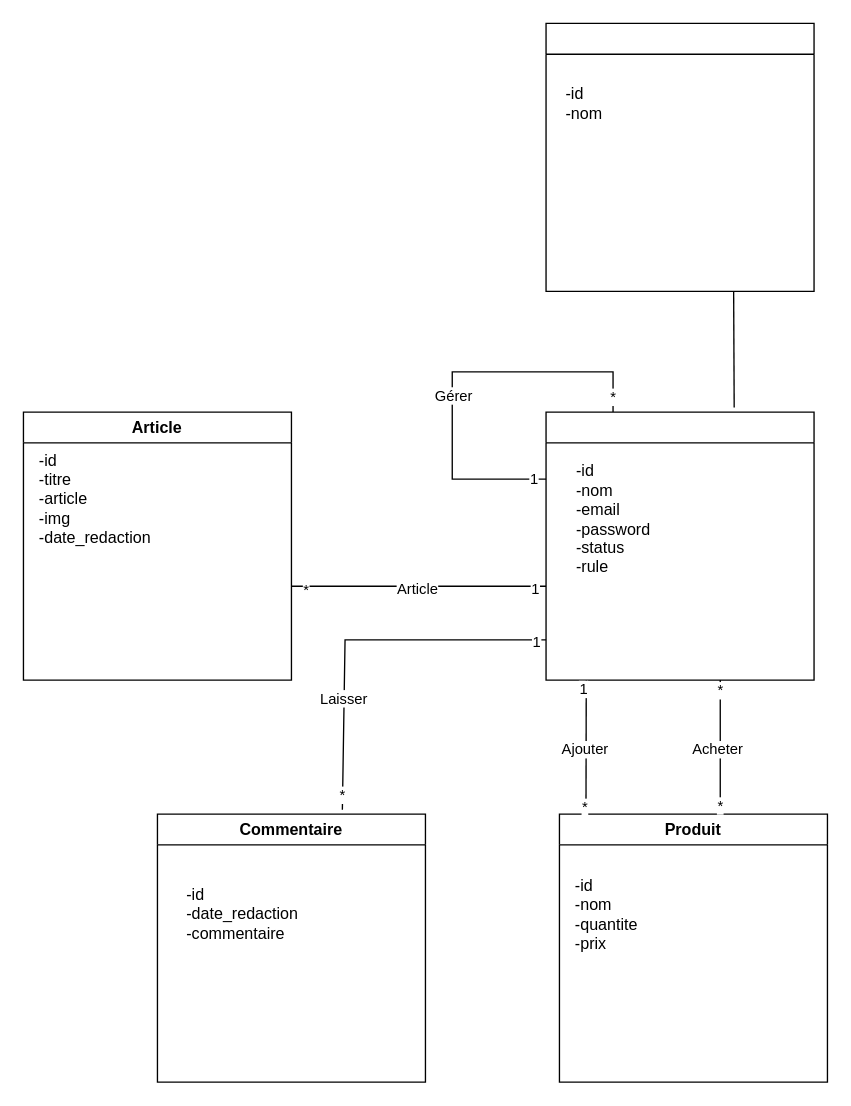
This 851x1106 diagram has some shape labels left out. Each missing label, with the box of its shape:
Role: (545, 22, 814, 291)
Utilisateur: (545, 411, 814, 680)
